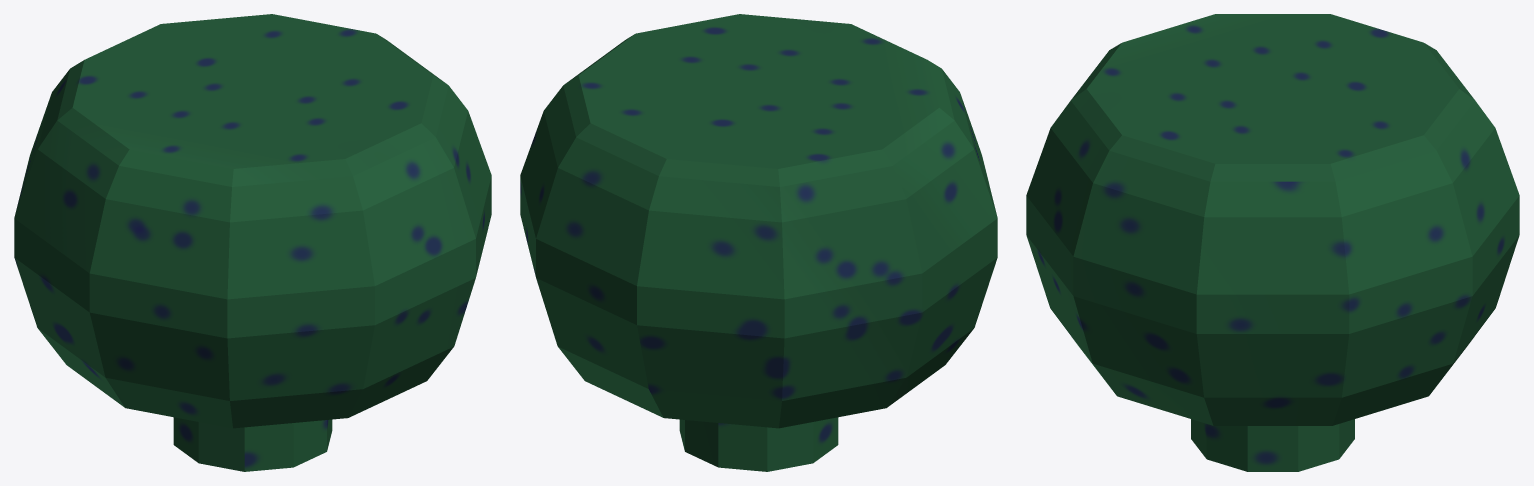
The model's file is bush.obj.
3 views of the same model, side by side, from view 1: azimuth 30°, elevation 25°; view 2: azimuth 150°, elevation 25°; view 3: azimuth 270°, elevation 25° (orthographic).
Parts seen in each view (by area): view 1: Circle_Circle.001; view 2: Circle_Circle.001; view 3: Circle_Circle.001.
Boxes of the visible parts, x1=… form: Circle_Circle.001: x1=14, y1=14, x2=491, y2=471; Circle_Circle.001: x1=520, y1=14, x2=997, y2=471; Circle_Circle.001: x1=1026, y1=14, x2=1519, y2=471.
Size of the model in its own units: 1.79 by 1.48 by 1.88.
Materials: 1 (1 with a texture image).
